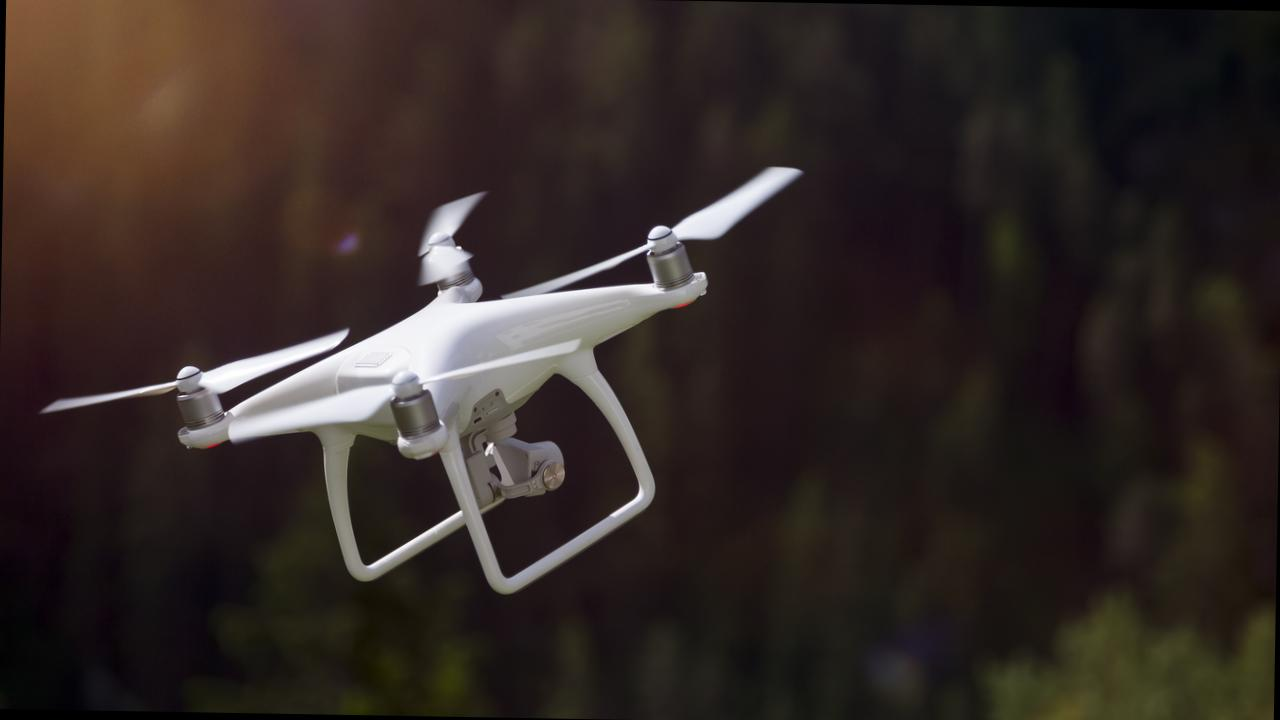drone: (119, 124, 834, 580)
